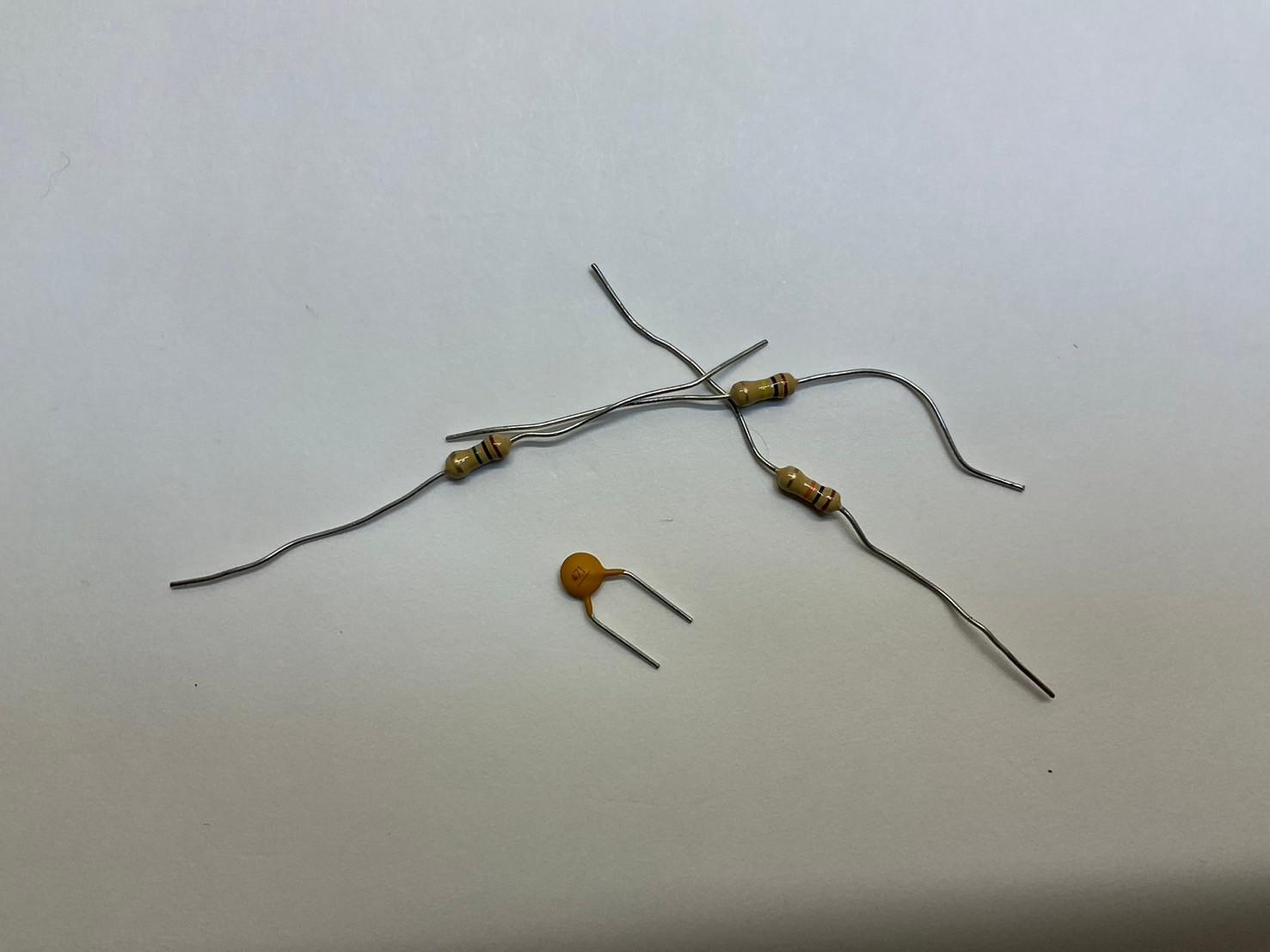resistor: (773, 468, 844, 515), (440, 433, 508, 478), (731, 373, 798, 409)
